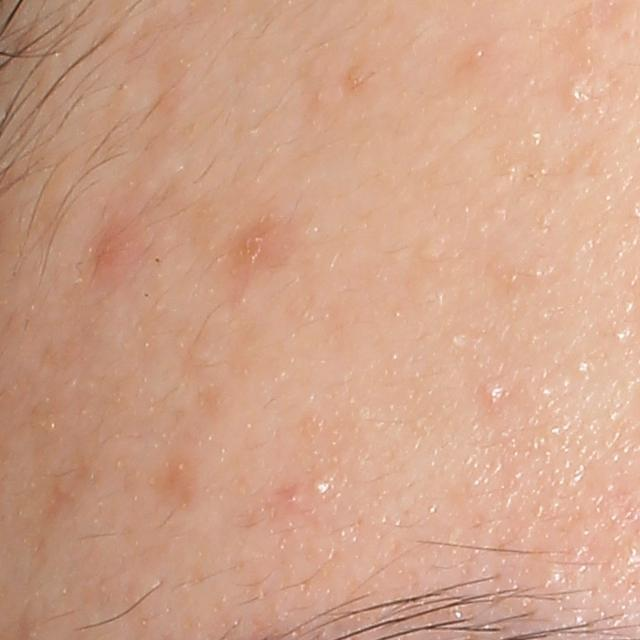comedo: (413, 236, 445, 268), (309, 472, 335, 500), (567, 77, 590, 103), (484, 378, 505, 405)
papule: (87, 217, 138, 284)
